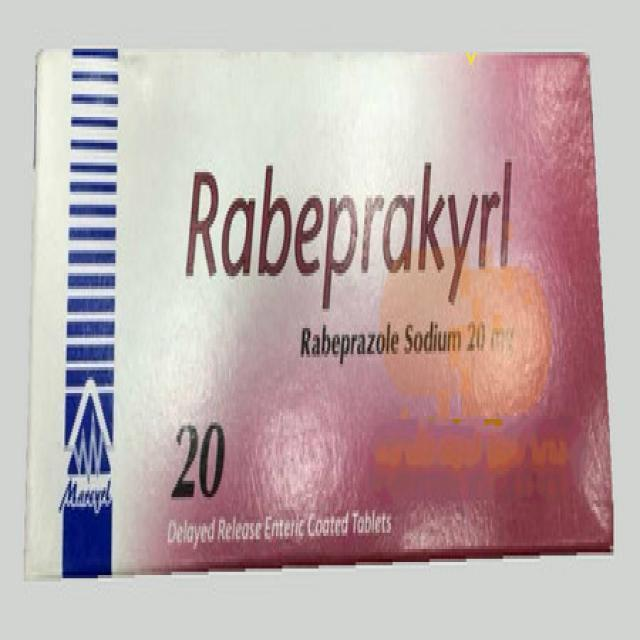drug-name: (188, 159, 520, 313)
